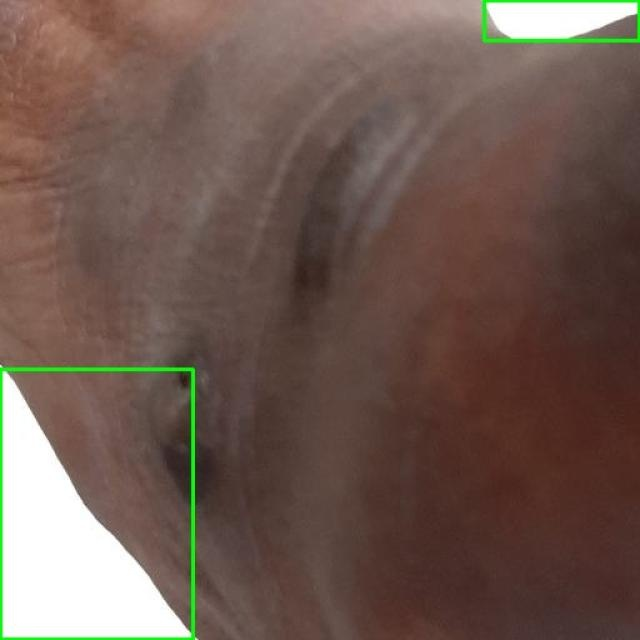Eczema: (0, 369, 192, 639), (484, 0, 639, 40)
